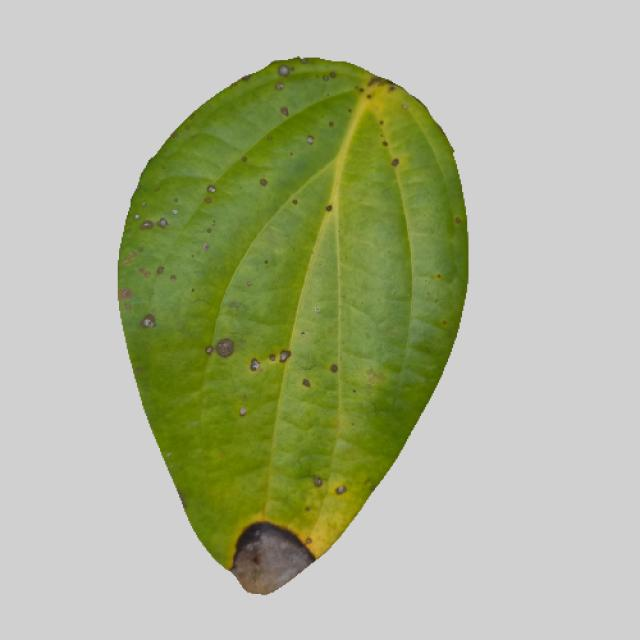leaf-blight: (109, 64, 475, 595)
